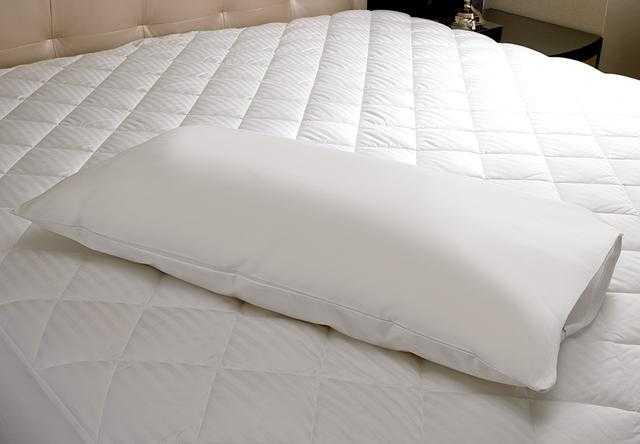pillow: (16, 122, 624, 394)
